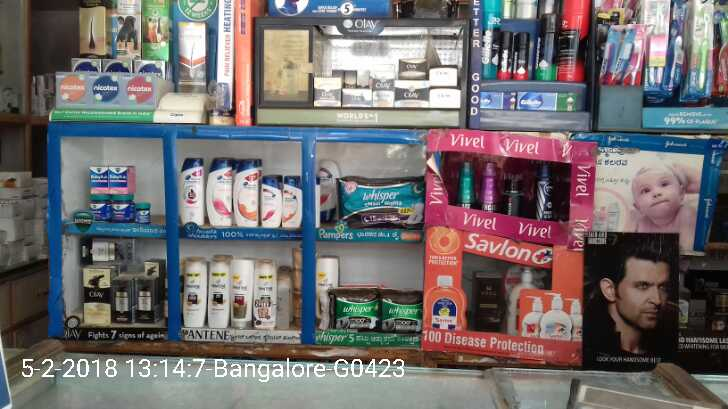beauty: (204, 156, 235, 230), (233, 156, 261, 229), (83, 263, 113, 331), (184, 258, 211, 327), (180, 156, 205, 225), (207, 259, 231, 330), (230, 260, 254, 329), (254, 259, 276, 329), (281, 174, 309, 226), (259, 180, 283, 225), (133, 279, 157, 324), (112, 280, 133, 324)
pharmacy: (338, 173, 428, 232), (330, 286, 383, 338), (380, 290, 424, 333), (130, 198, 155, 226), (106, 166, 131, 192), (111, 198, 133, 226), (89, 166, 109, 196)
